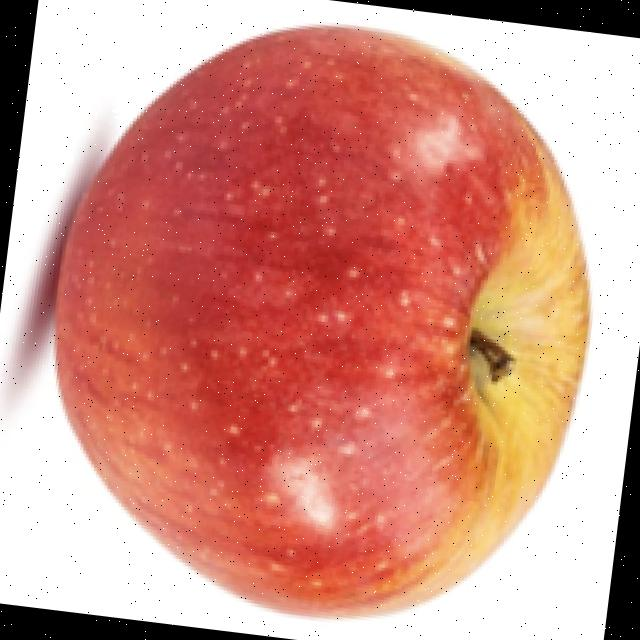apple: (2, 20, 596, 625)
